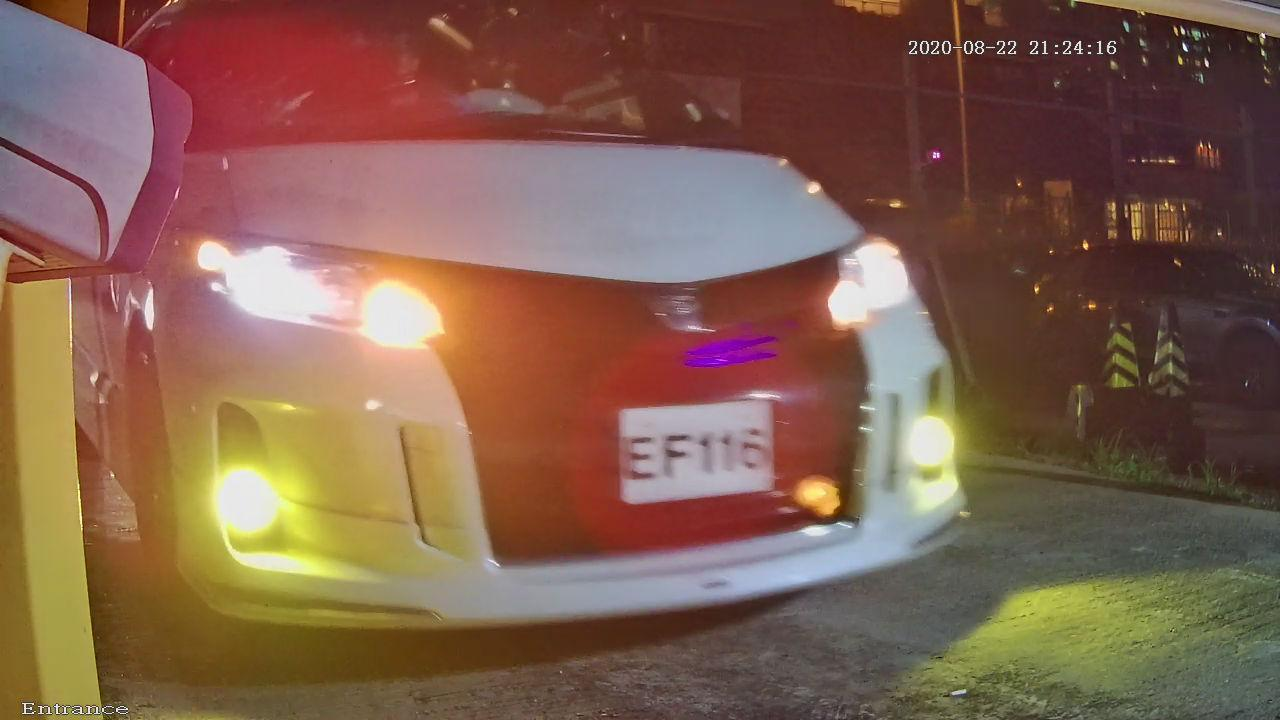Car: (92, 7, 1035, 688)
License Plate: (587, 352, 821, 552)
